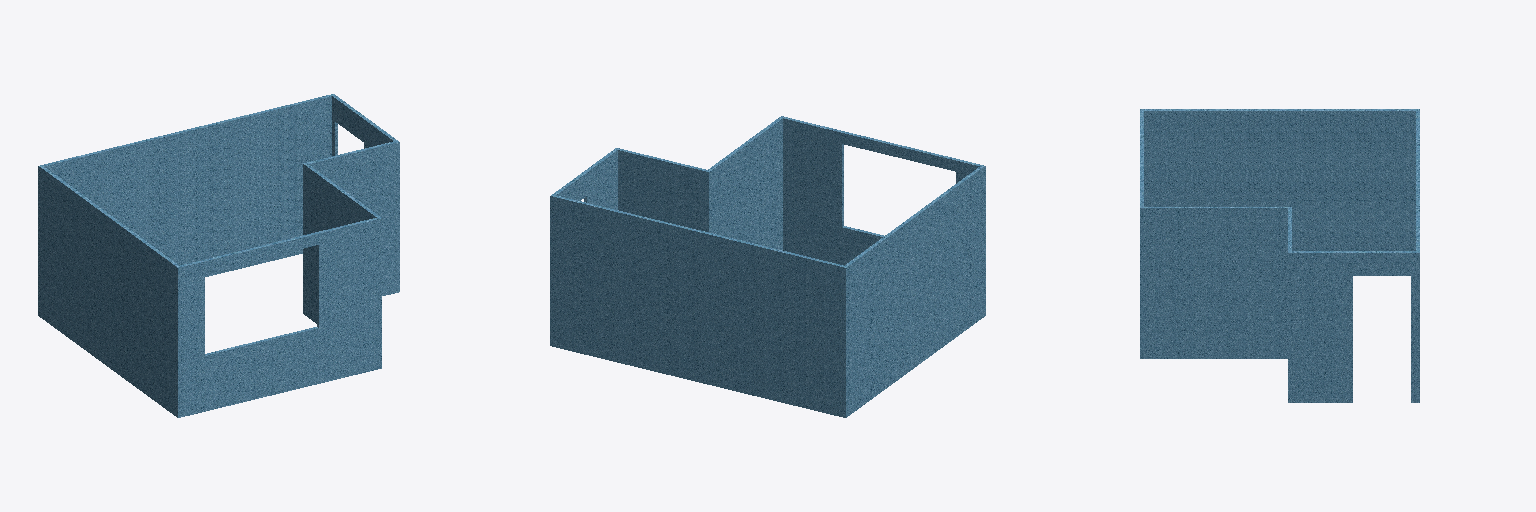
The picture shows the model from 3 angles: view 1: azimuth 30°, elevation 25°; view 2: azimuth 150°, elevation 25°; view 3: azimuth 270°, elevation 25°; orthographic projection.
Visible parts, largest first — view 1: WallsBlue_bedroom.002; view 2: WallsBlue_bedroom.002; view 3: WallsBlue_bedroom.002.
Boxes of the visible parts, <box> form: WallsBlue_bedroom.002: <box>38,94,399,417</box>; WallsBlue_bedroom.002: <box>550,116,985,417</box>; WallsBlue_bedroom.002: <box>1140,109,1419,402</box>.
Size of the model in its own units: 8.6 by 4.18 by 7.04.
1 materials, 1 textured.